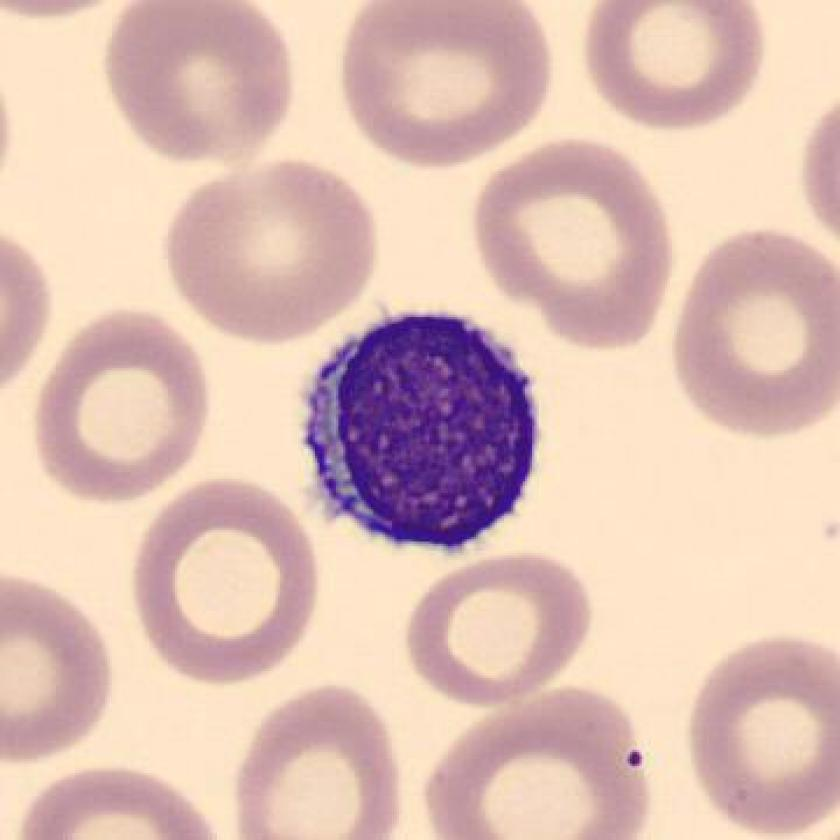lymphocyte: (288, 288, 561, 573)
